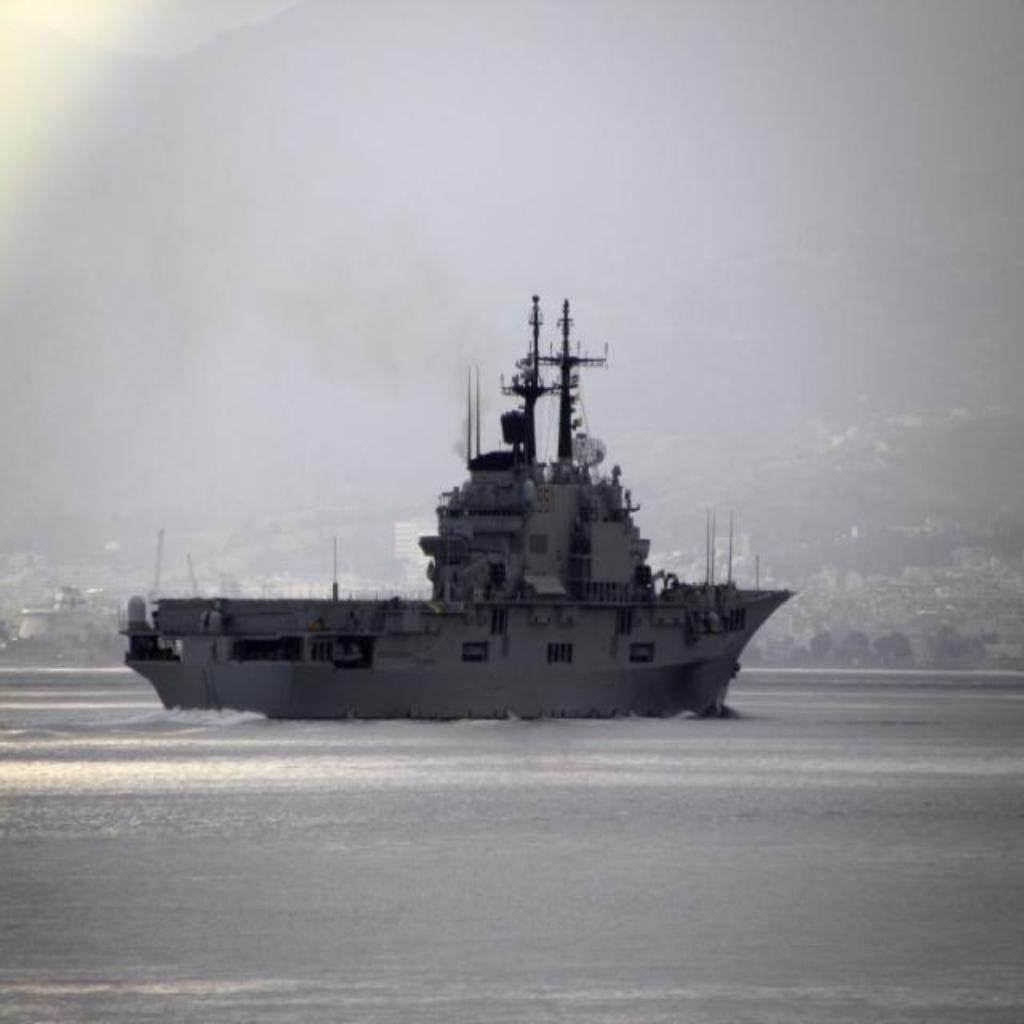Warship: (118, 285, 798, 723)
